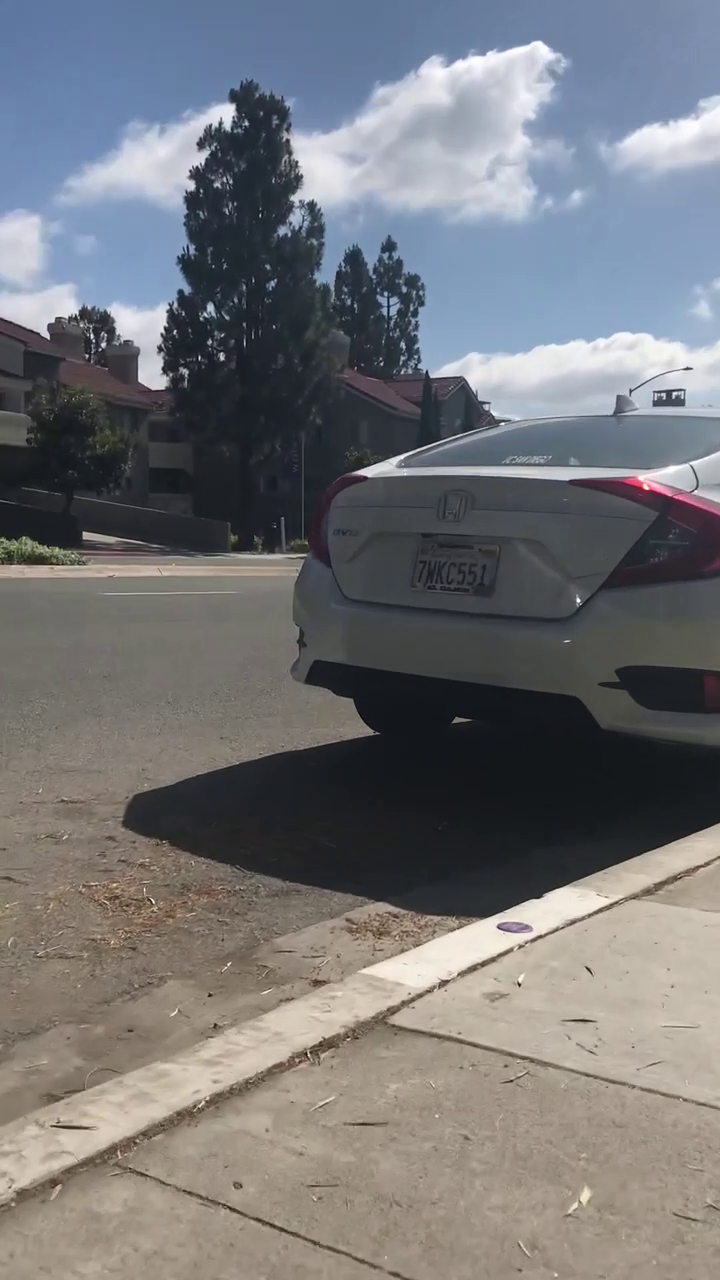aeroplane: (281, 408, 720, 793)
car: (290, 409, 720, 798)
